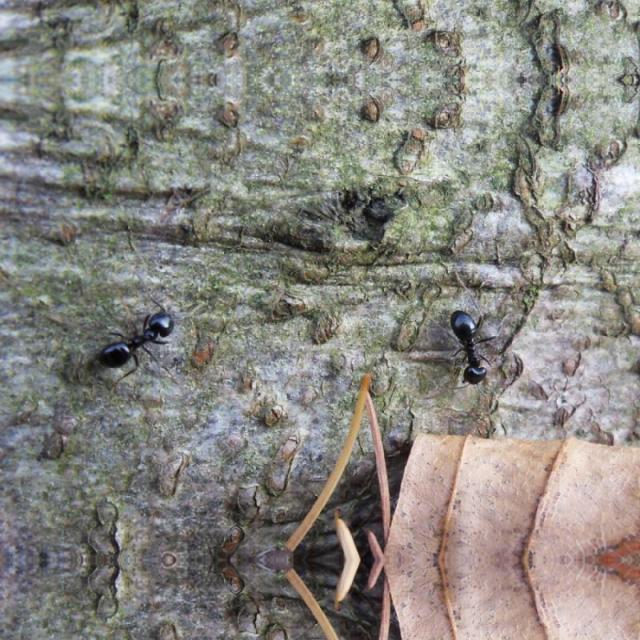Lasius: (81, 284, 199, 382), (439, 304, 498, 388)
